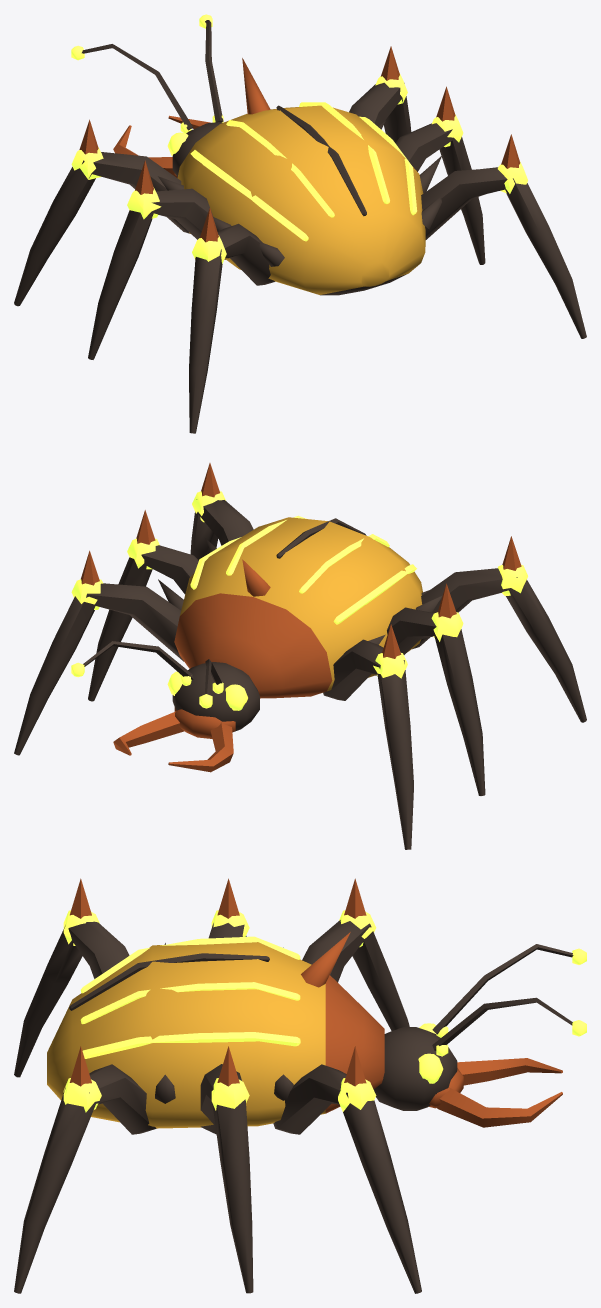
File: creature_crawler_a.glb
The picture shows the model from 3 angles, top to bottom: view 1: azimuth 30°, elevation 25°; view 2: azimuth 150°, elevation 25°; view 3: azimuth 270°, elevation 25°; orthographic projection. The views are drawn at different scales.
Visible parts, largest first — view 1: Body, Leg_6, Leg_5, Leg_1, Leg_4, Leg_3, Head, Leg_2; view 2: Body, Head, Leg_2, Leg_1, Leg_5, Leg_4, Leg_3, Leg_6; view 3: Body, Head, Leg_2, Leg_6, Leg_3, Leg_5, Leg_1, Leg_4.
Boxes of the visible parts, bbox=[...] form: Body: bbox=[158, 58, 442, 295]; Leg_6: bbox=[421, 134, 586, 338]; Leg_5: bbox=[189, 208, 275, 433]; Leg_1: bbox=[14, 119, 190, 306]; Leg_4: bbox=[88, 160, 225, 359]; Leg_3: bbox=[395, 86, 485, 264]; Head: bbox=[71, 14, 223, 177]; Leg_2: bbox=[349, 46, 411, 142]; Body: bbox=[158, 515, 441, 698]; Head: bbox=[71, 641, 259, 772]; Leg_2: bbox=[14, 550, 183, 755]; Leg_1: bbox=[323, 624, 413, 849]; Leg_5: bbox=[412, 536, 586, 722]; Leg_4: bbox=[375, 583, 485, 795]; Leg_3: bbox=[88, 510, 198, 701]; Leg_6: bbox=[190, 463, 253, 559]; Body: bbox=[47, 932, 384, 1128]; Head: bbox=[373, 944, 586, 1127]; Leg_2: bbox=[273, 1046, 421, 1293]; Leg_6: bbox=[14, 1046, 156, 1293]; Leg_3: bbox=[200, 1046, 253, 1293]; Leg_5: bbox=[14, 878, 129, 1077]; Leg_1: bbox=[302, 878, 409, 1030]; Leg_4: bbox=[208, 878, 249, 938].
Size of the model in its own units: 1.24 by 0.6628 by 1.36.
